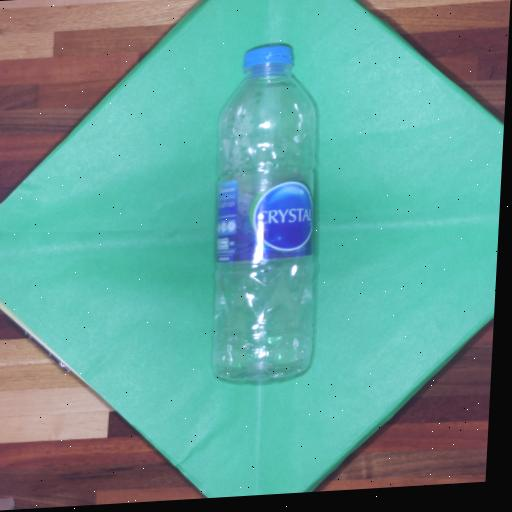bottle: (184, 23, 347, 408)
